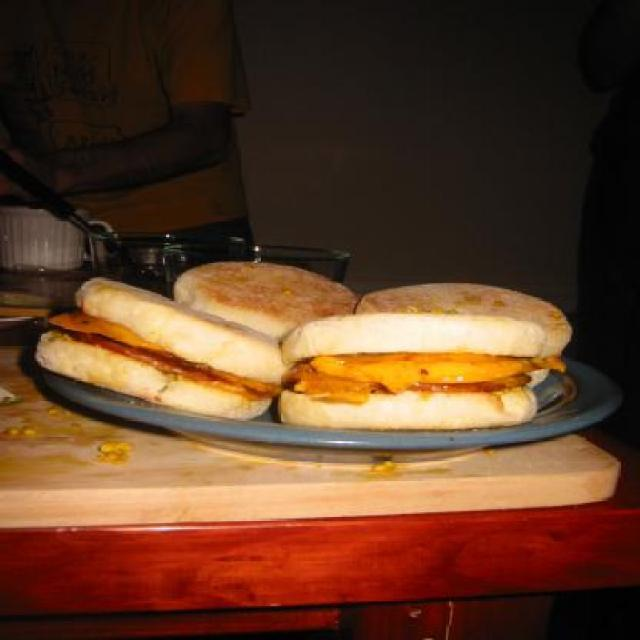Hamburger: (31, 278, 288, 420), (274, 314, 566, 432), (350, 288, 572, 381), (168, 263, 354, 345)
